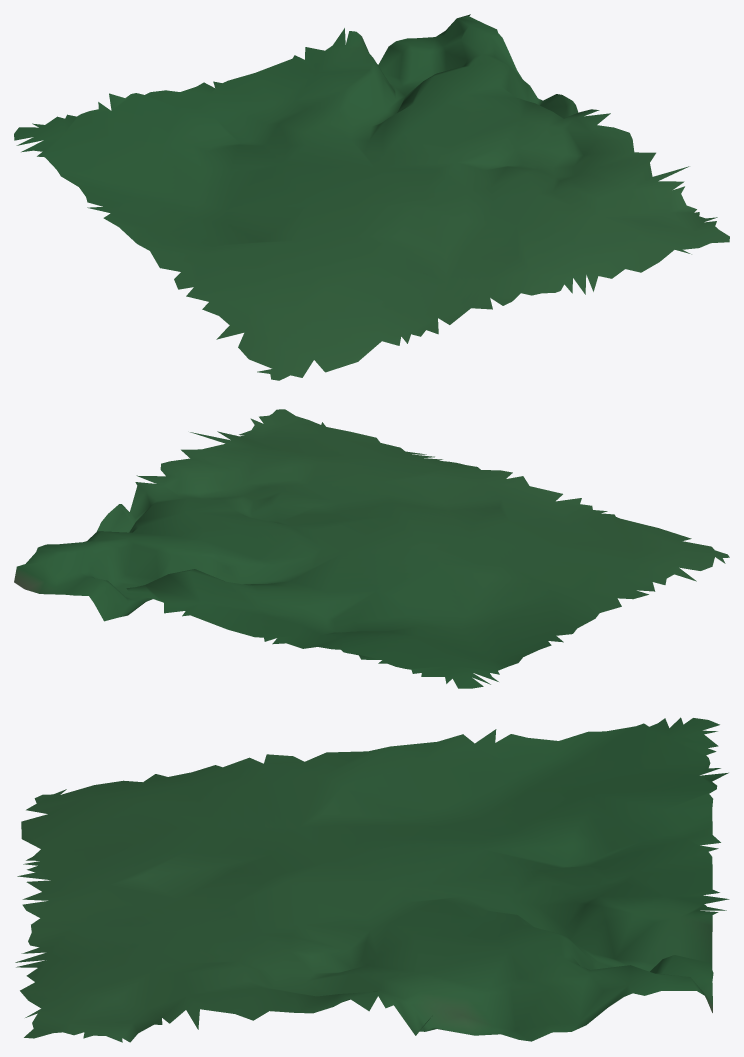
Rendered from payo_land_x0_y6_lod2.glb.
3 renders of one model, top to bottom at view 1: azimuth 30°, elevation 25°; view 2: azimuth 150°, elevation 25°; view 3: azimuth 270°, elevation 25°, orthographic. The views are drawn at different scales.
Parts seen in each view (by area): view 1: payo_land_x0_y6; view 2: payo_land_x0_y6; view 3: payo_land_x0_y6.
Boxes of the visible parts, x1,y1,x2,y2 form: payo_land_x0_y6: [14, 14, 729, 380]; payo_land_x0_y6: [14, 409, 729, 688]; payo_land_x0_y6: [15, 717, 729, 1042].
Size of the model in its own units: 277 by 40.79 by 269.
